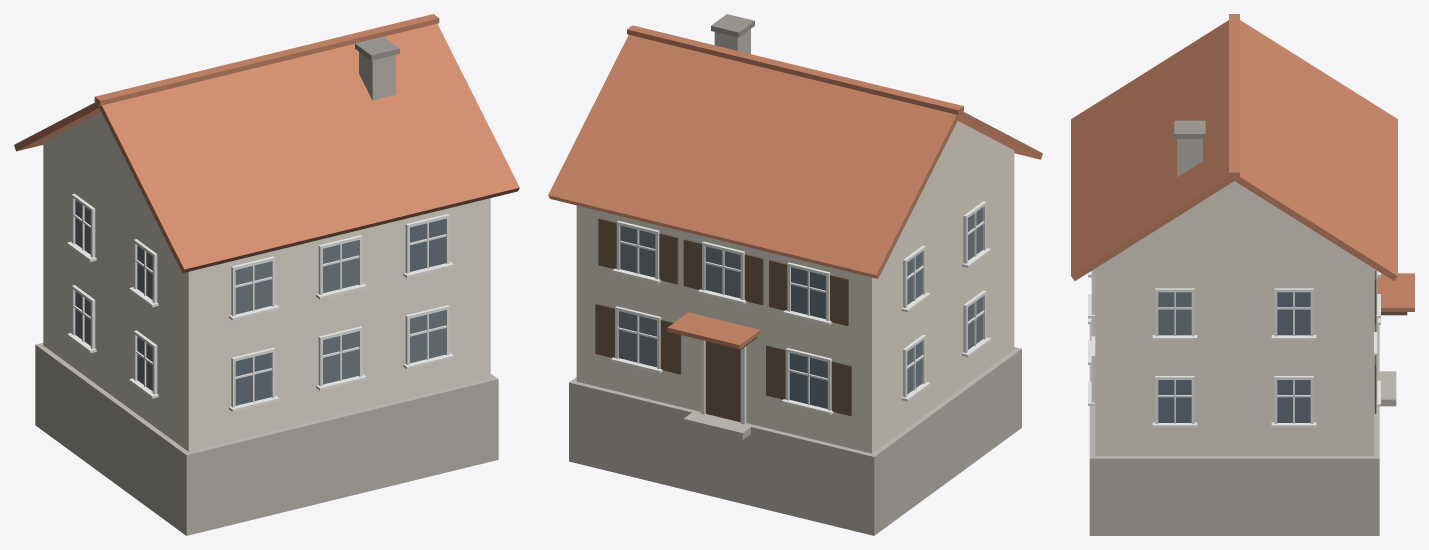
The model's file is house_a.glb.
3 renders of one model, left to right at view 1: azimuth 30°, elevation 25°; view 2: azimuth 150°, elevation 25°; view 3: azimuth 270°, elevation 25°, orthographic. The views are drawn at different scales.
Visible parts, largest first — view 1: house_a; view 2: house_a; view 3: house_a.
Part boxes in pixels (x1=…): house_a: x1=14, y1=14, x2=519, y2=535; house_a: x1=548, y1=14, x2=1042, y2=535; house_a: x1=1071, y1=14, x2=1414, y2=535.
Bounding box in the file's own units: 10.1 × 11.18 × 9.25.
